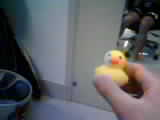duck: (91, 42, 132, 88)
